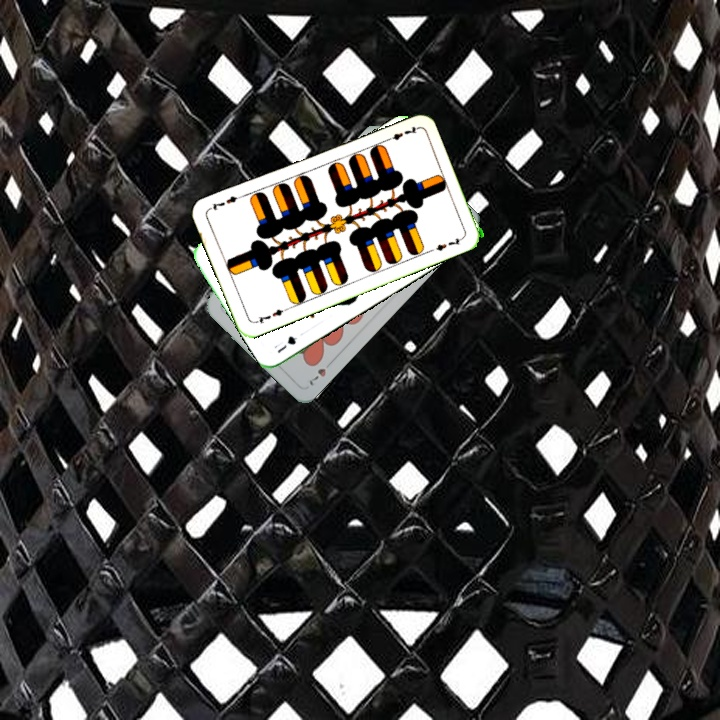E7: (250, 304, 289, 326), (381, 122, 419, 144)
GU: (273, 332, 300, 356)
H7: (305, 364, 329, 389)
